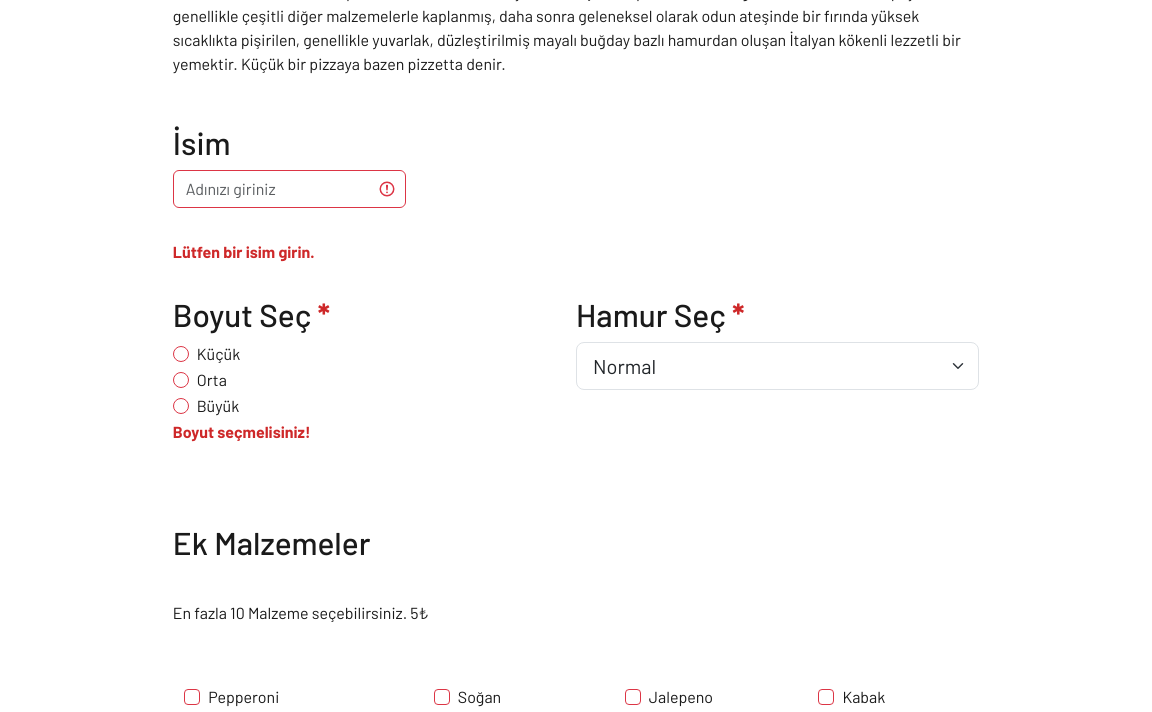
Test: İsim Alanı Testleri › Boyut seçimi çalışıyor mu?
(page scrolled)
Expected: the text "Boyut seçmelisiniz!" is shown, x1=173 y1=420 x2=310 y2=444
Step 1. Check the radio button with id "Küçük" → (181, 354), box x1=173 y1=346 x2=189 y2=362
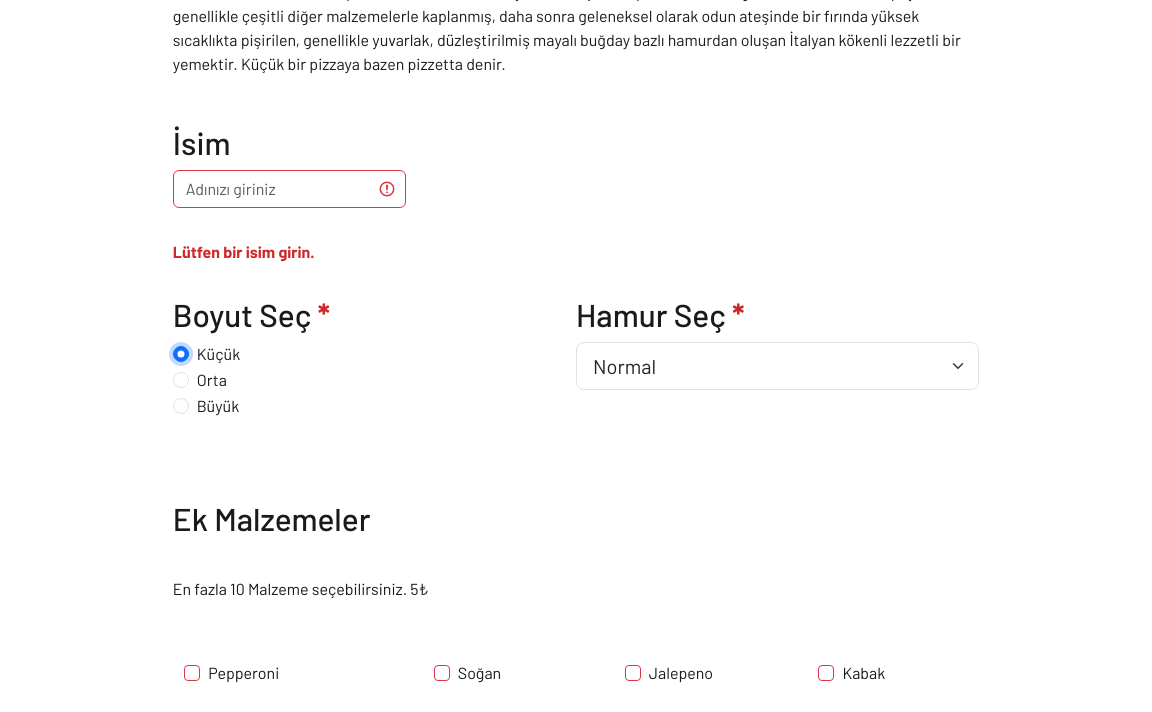
Expected: the text "Boyut seçmelisiniz!" is gone
